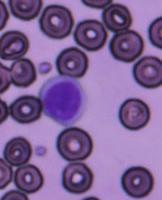L: (38, 74, 89, 125)
